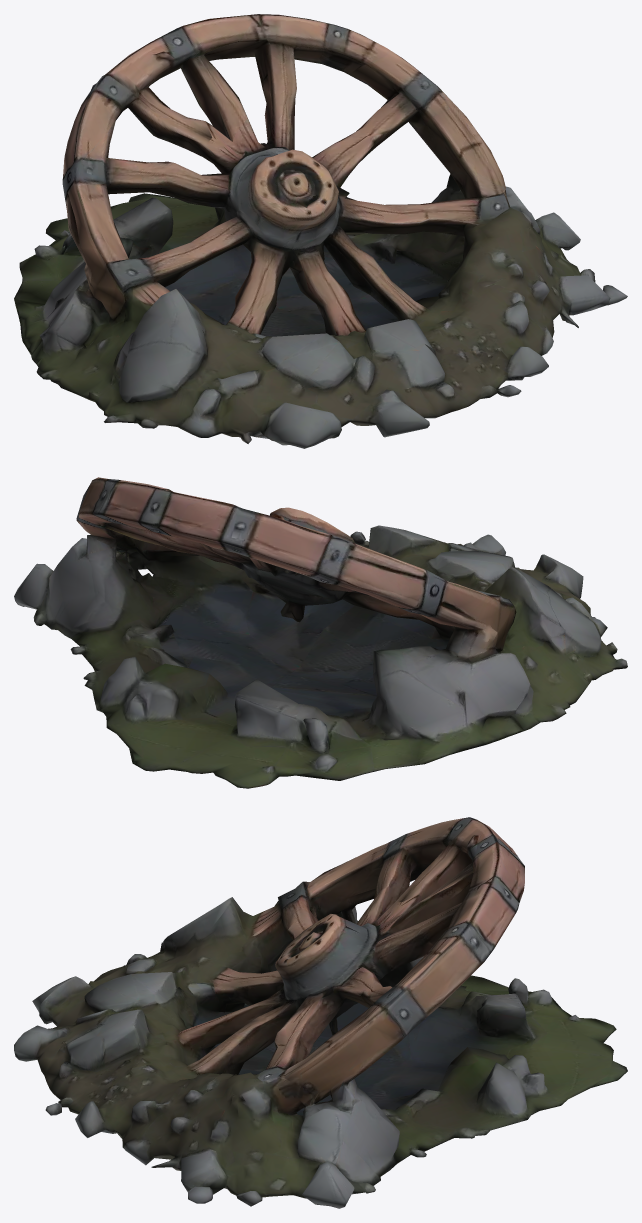
The model's file is wheel.opt.glb.
The picture shows the model from 3 angles, top to bottom: view 1: azimuth 30°, elevation 25°; view 2: azimuth 150°, elevation 25°; view 3: azimuth 270°, elevation 25°; orthographic projection. The views are drawn at different scales.
Bounding box in the file's own units: 1.98 × 0.8456 × 2.
Materials: 1 (1 with a texture image).
